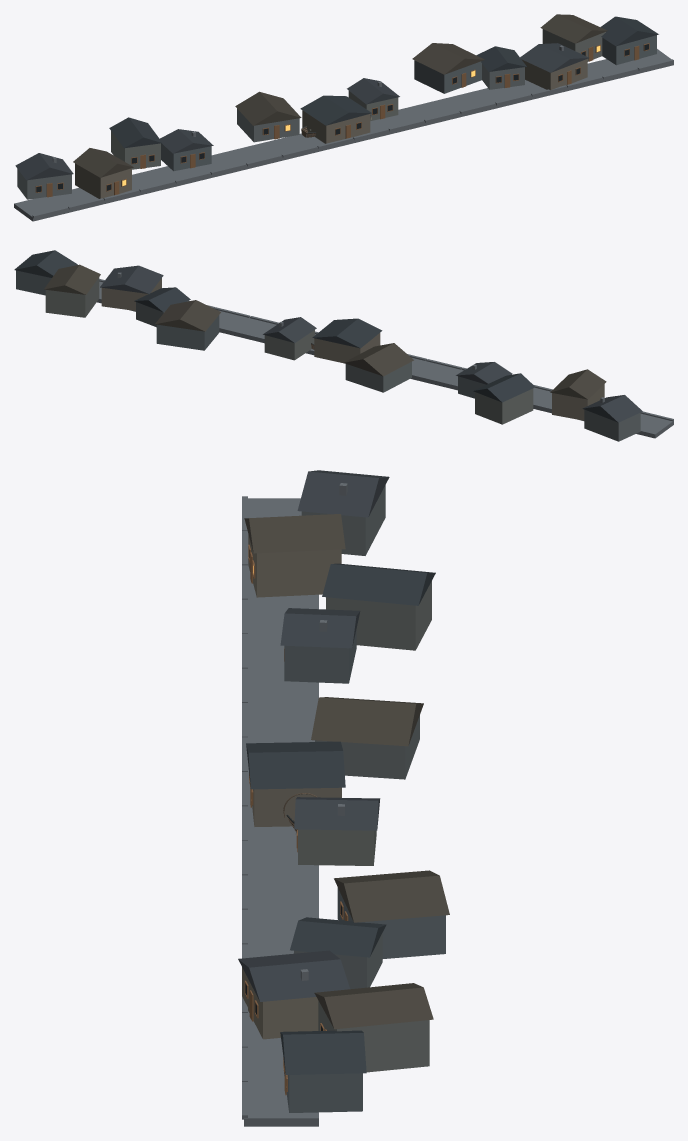
Rendered from nauka-canopy-lanterns-export.glb.
3 views of the same model, one above another, from view 1: azimuth 30°, elevation 25°; view 2: azimuth 150°, elevation 25°; view 3: azimuth 270°, elevation 25° (orthographic). The views are drawn at different scales.
Parts seen in each view (by area): view 1: Shore_Village | charcoal pitched roofs, Shore_Village | old quay granite, Shore_Village | quiet weathered plaster, Shore_Village | weathered warm timber, Shore_Village | dark inactive windows; view 2: Shore_Village | charcoal pitched roofs, Shore_Village | quiet weathered plaster, Shore_Village | old quay granite; view 3: Shore_Village | charcoal pitched roofs, Shore_Village | quiet weathered plaster, Shore_Village | old quay granite.
Part boxes in pixels (bbox=[...]): Shore_Village | charcoal pitched roofs: bbox=[15, 14, 658, 180]; Shore_Village | old quay granite: bbox=[14, 45, 673, 221]; Shore_Village | quiet weathered plaster: bbox=[17, 29, 656, 199]; Shore_Village | weathered warm timber: bbox=[35, 43, 649, 197]; Shore_Village | dark inactive windows: bbox=[36, 44, 648, 192]; Shore_Village | charcoal pitched roofs: bbox=[14, 250, 642, 422]; Shore_Village | quiet weathered plaster: bbox=[16, 270, 640, 441]; Shore_Village | old quay granite: bbox=[97, 272, 673, 438]; Shore_Village | charcoal pitched roofs: bbox=[238, 470, 449, 1074]; Shore_Village | quiet weathered plaster: bbox=[242, 485, 445, 1112]; Shore_Village | old quay granite: bbox=[242, 483, 347, 1126].
Bounding box in the file's own units: 90 × 4.84 × 13.01.
